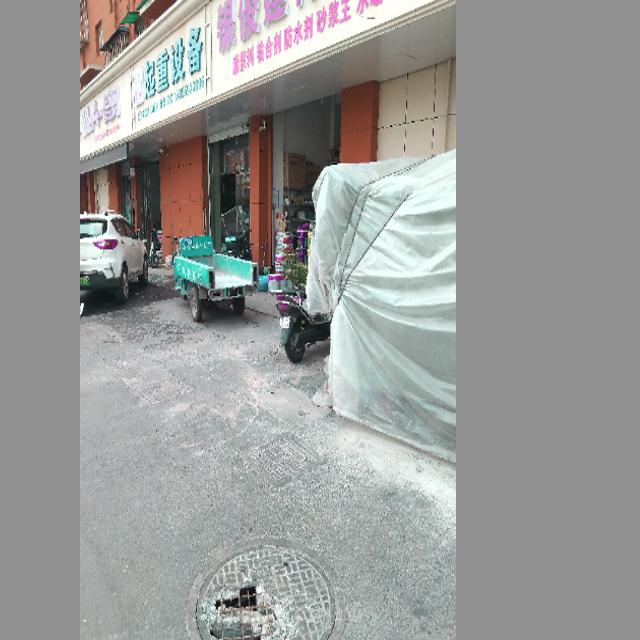broke: (185, 538, 346, 640)
